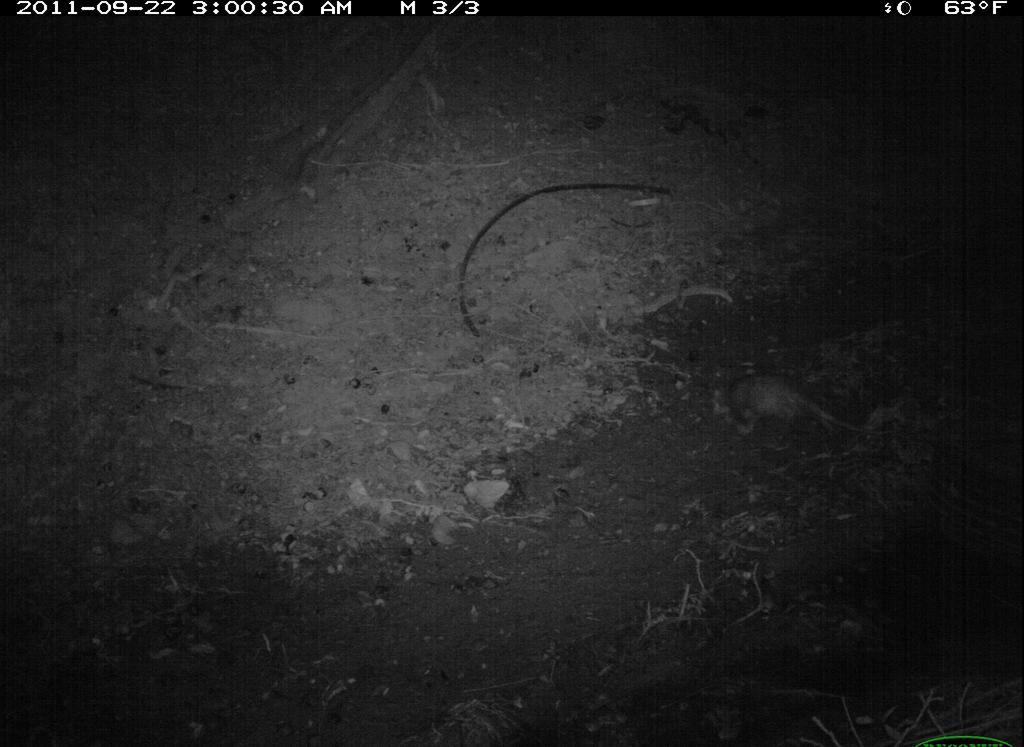opossum: (708, 365, 884, 461)
